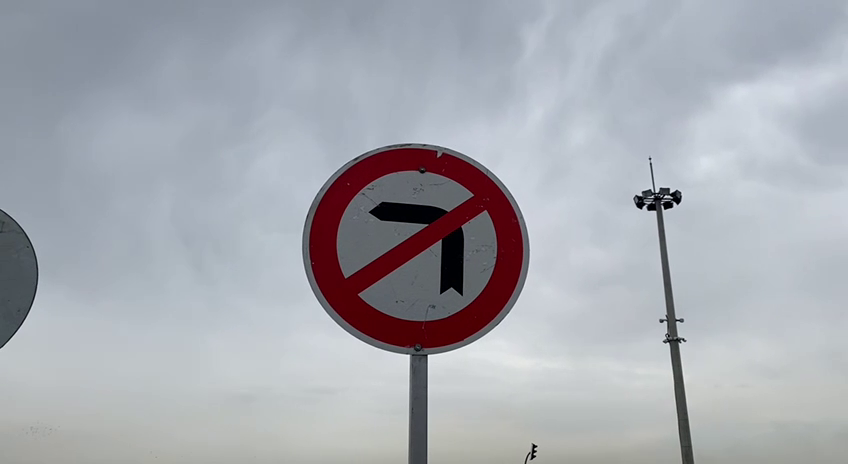noTurnLeft: (296, 137, 537, 360)
